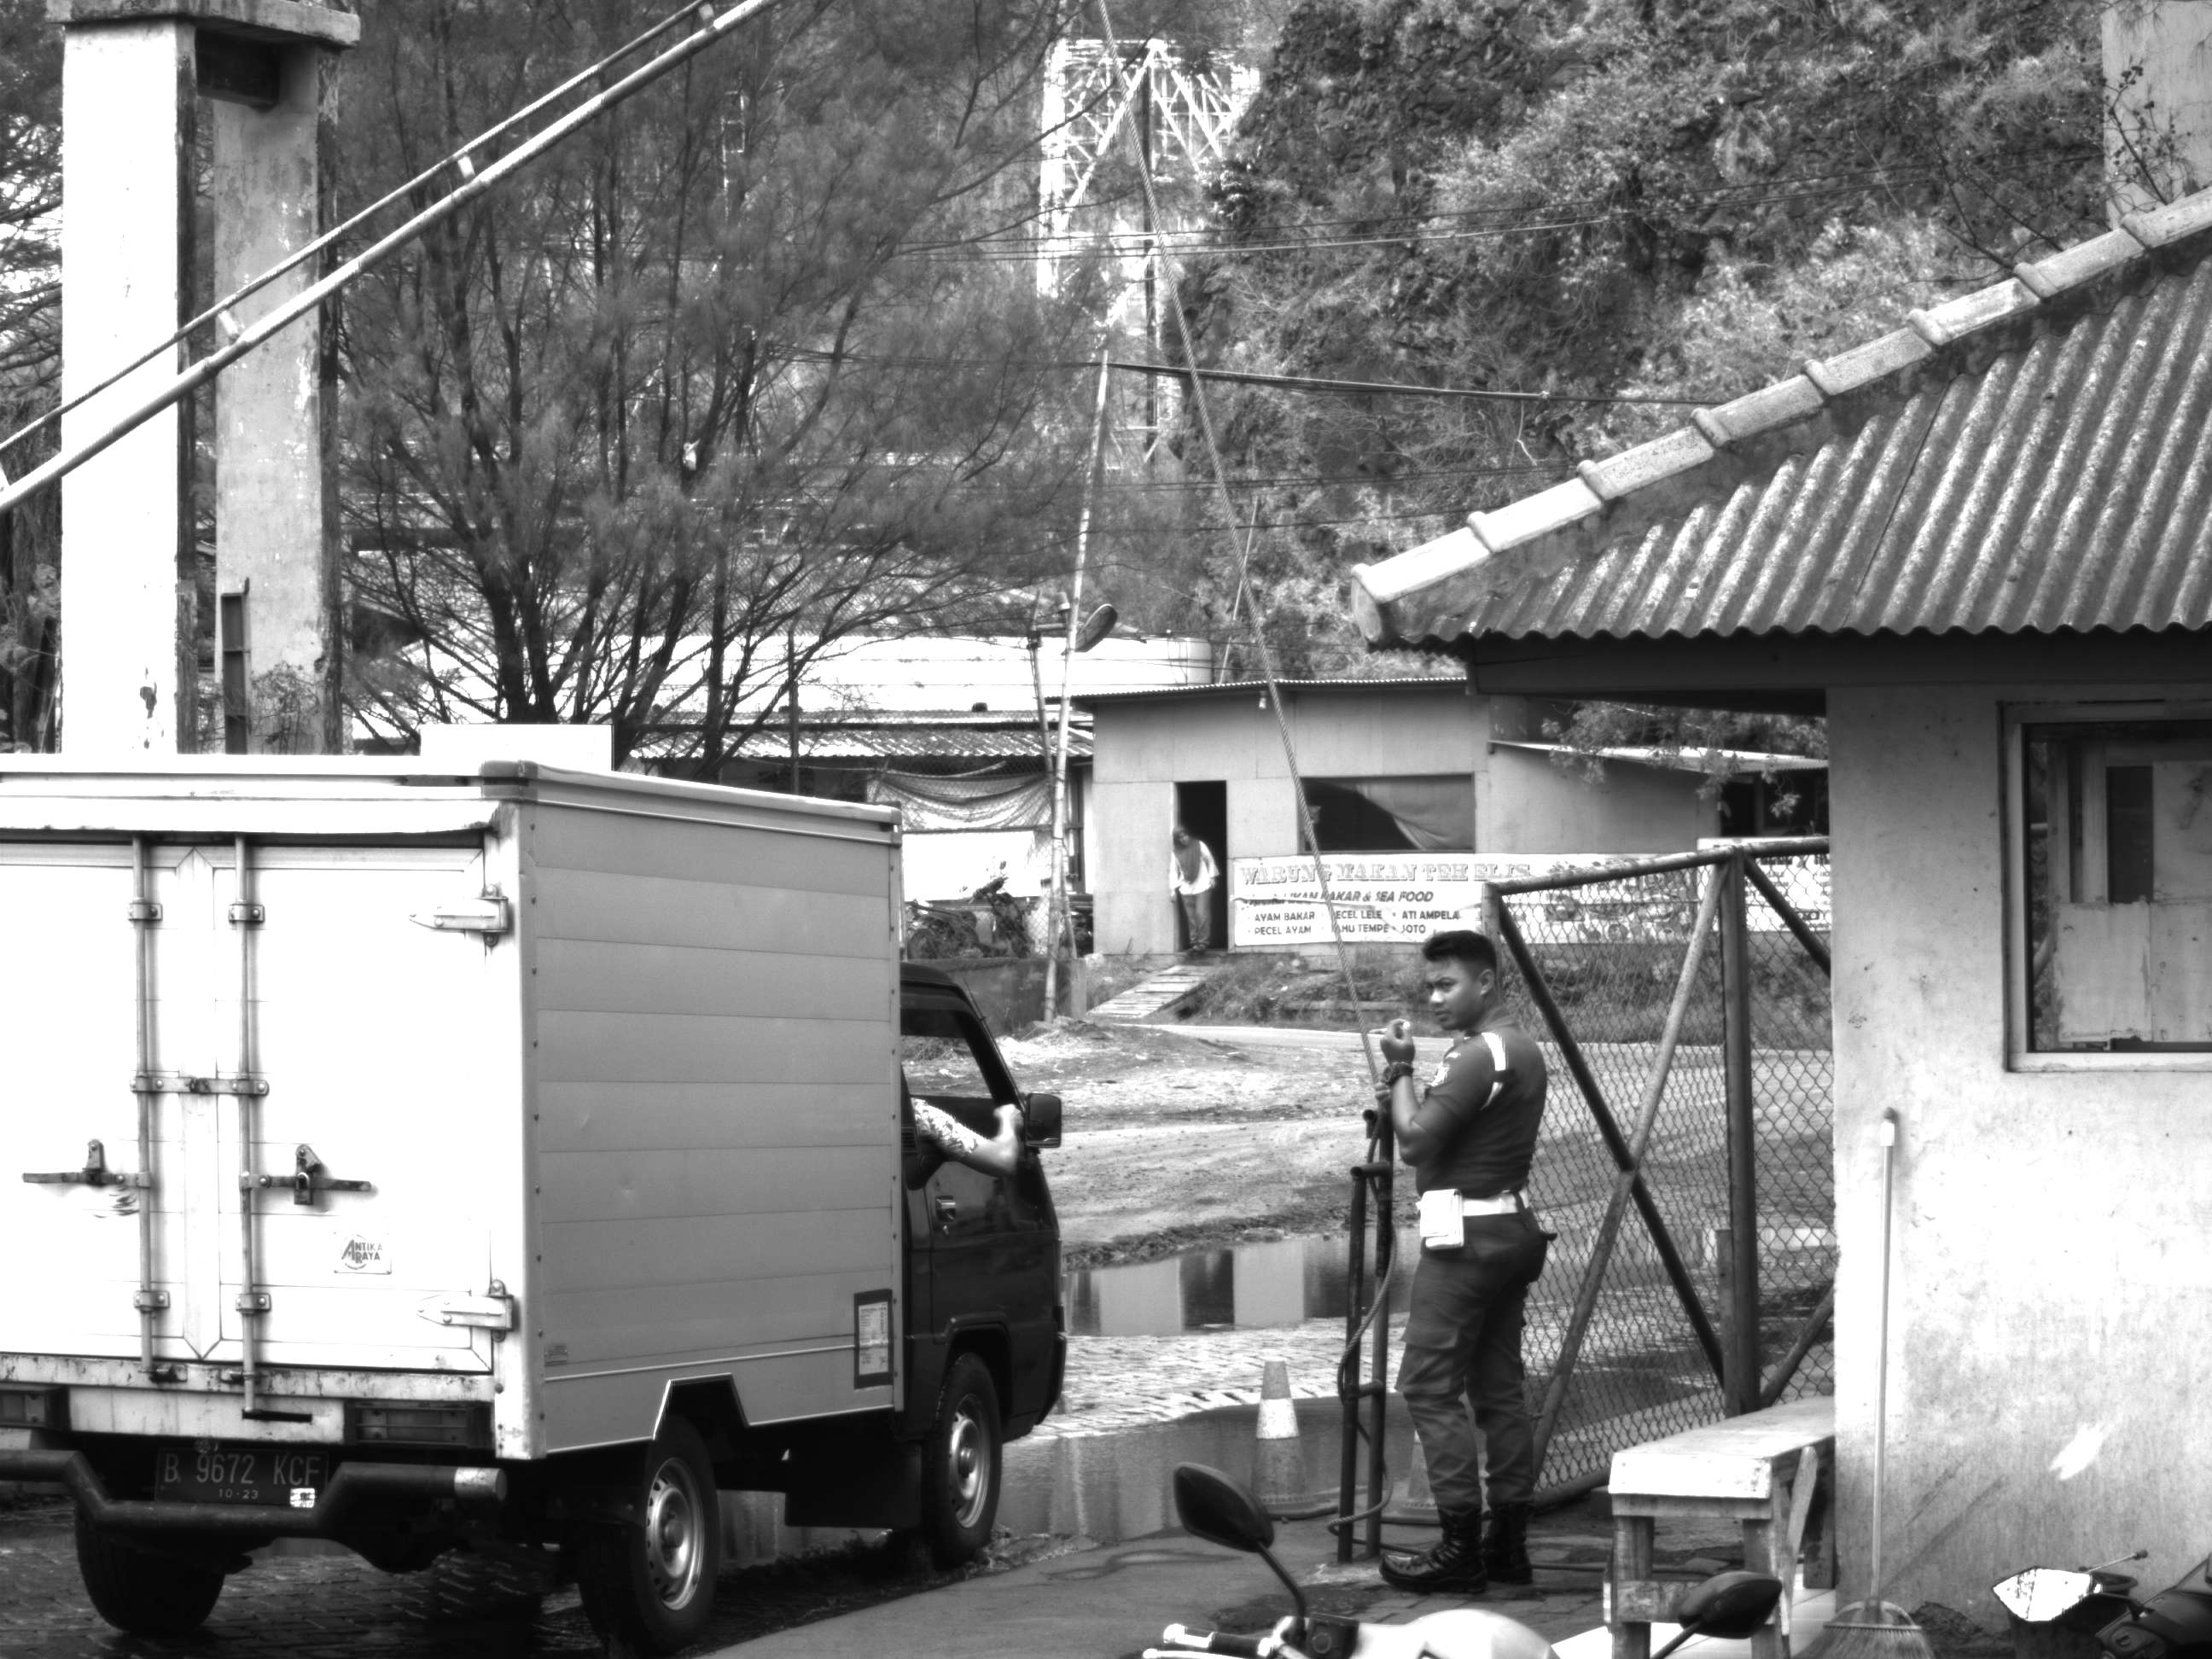day_truck_rear: (1, 738, 745, 1659)
plate: (152, 1442, 328, 1505)
